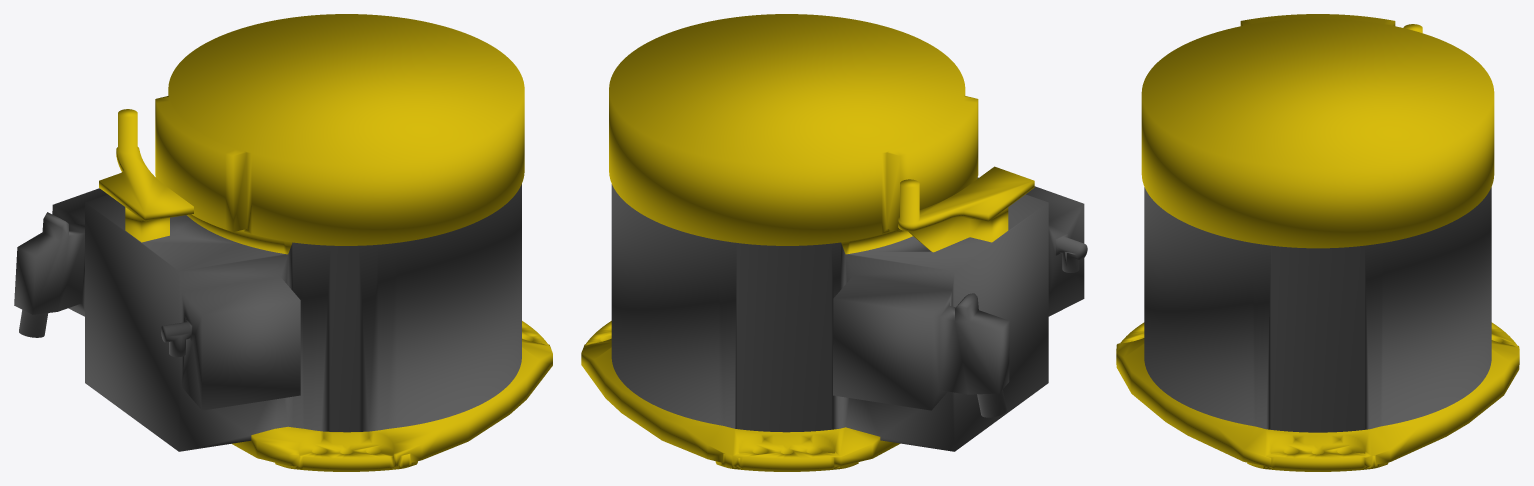
3 renders of one model, left to right at view 1: azimuth 30°, elevation 25°; view 2: azimuth 150°, elevation 25°; view 3: azimuth 270°, elevation 25°, orthographic.
Visible parts, largest first — view 1: kr60_1; view 2: kr60_1; view 3: kr60_1.
Part boxes in pixels (<box>): kr60_1: <box>14,14,552,471</box>; kr60_1: <box>581,14,1087,471</box>; kr60_1: <box>1116,14,1519,471</box>.
Size of the model in its own units: 239 by 147 by 185.
